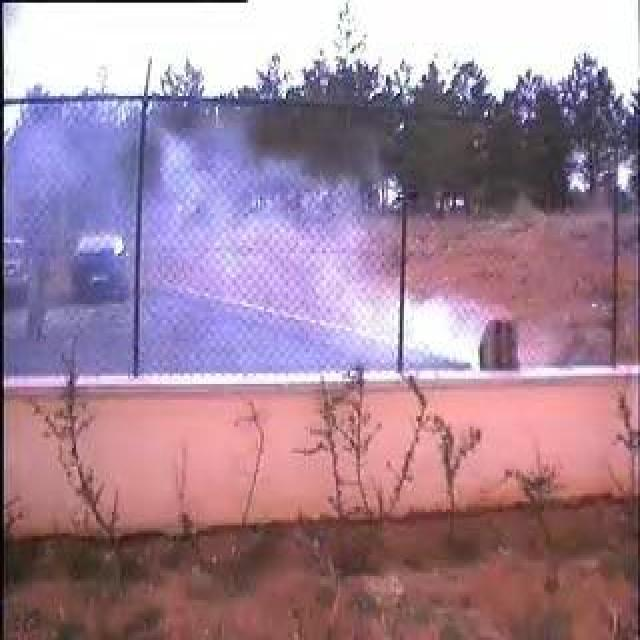Smoke: (162, 132, 482, 369)
